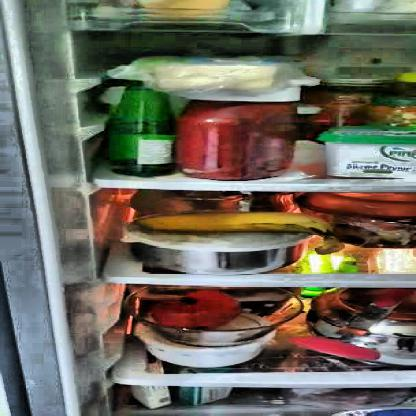banana: (140, 212, 334, 233)
cheese: (323, 127, 416, 176), (153, 59, 278, 87)
mineral_water: (112, 82, 174, 174)
tomato: (156, 293, 240, 325)
tomato_paste: (175, 97, 294, 181)
